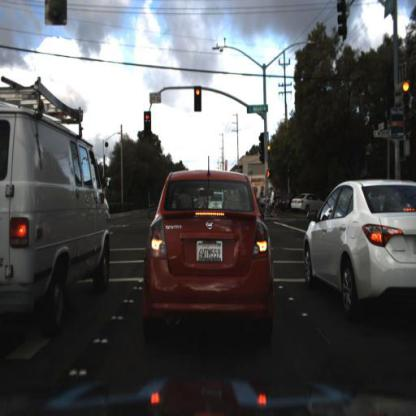biker: (265, 179, 278, 223), (265, 184, 276, 224)
car: (1, 85, 116, 321), (145, 167, 276, 343), (303, 178, 416, 309), (290, 193, 325, 215)
trafficLight-Red: (401, 82, 412, 116), (402, 80, 411, 97), (196, 89, 202, 114), (266, 143, 274, 161)
trafficLight-RedLeft: (144, 111, 152, 141), (145, 111, 151, 127)
truck: (2, 74, 111, 331)
